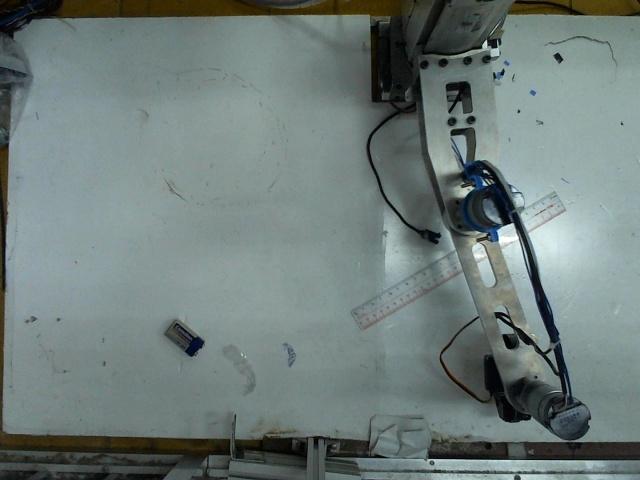battery: (161, 315, 205, 353)
